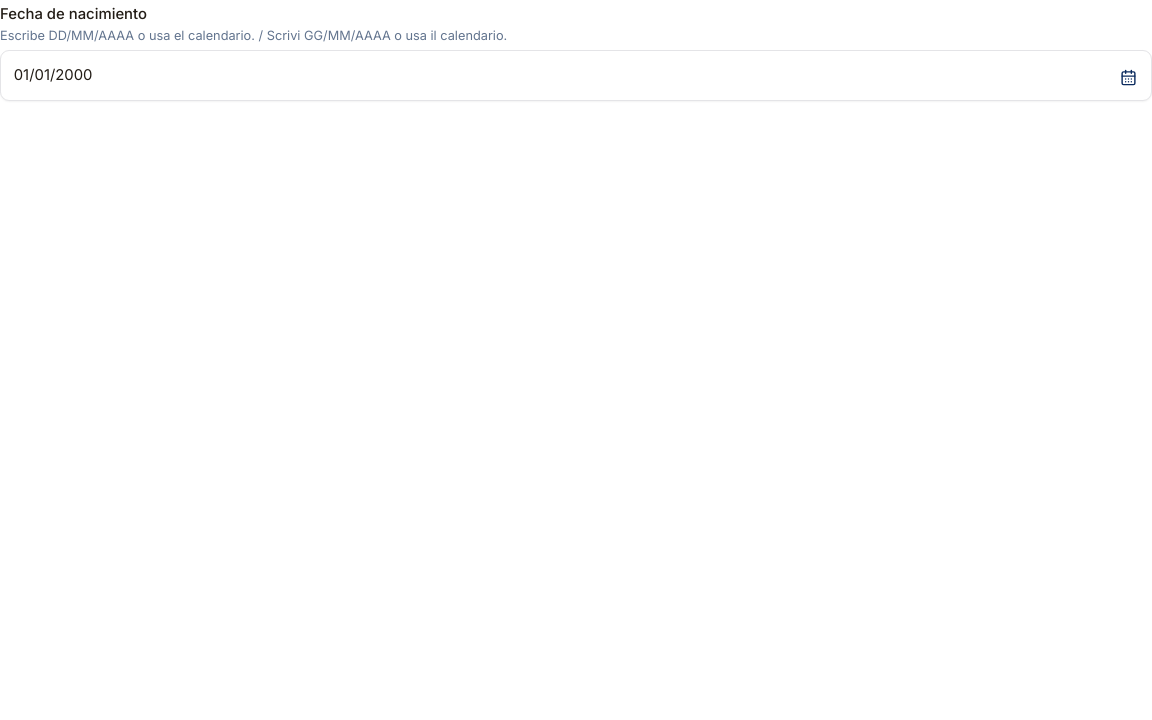
it: ManualDateField › presenta controles anuales amplios en el calendario
The width and height of the screenshot is (1152, 720).
Click the button named "Abrir calendario de Fecha de nacimiento" at point(1129, 77), box left=1110, top=54, right=1148, bottom=101
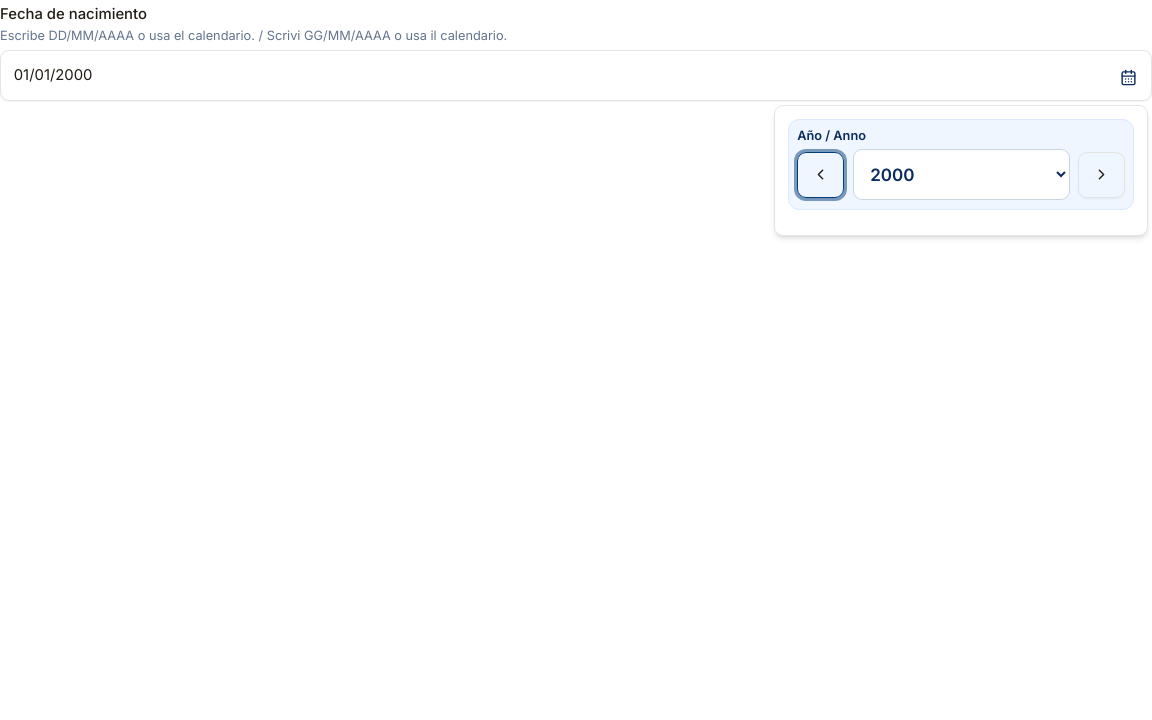
Result: the dropdown named "Año de Fecha de nacimiento" is shown at left=852, top=150, right=1070, bottom=200
Result: the button named "Año anterior" is shown at left=797, top=152, right=844, bottom=198
